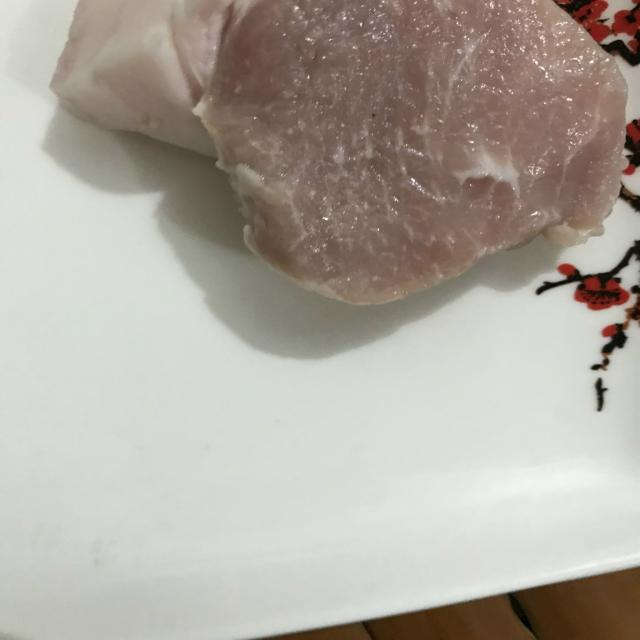chicken: (43, 0, 639, 302)
